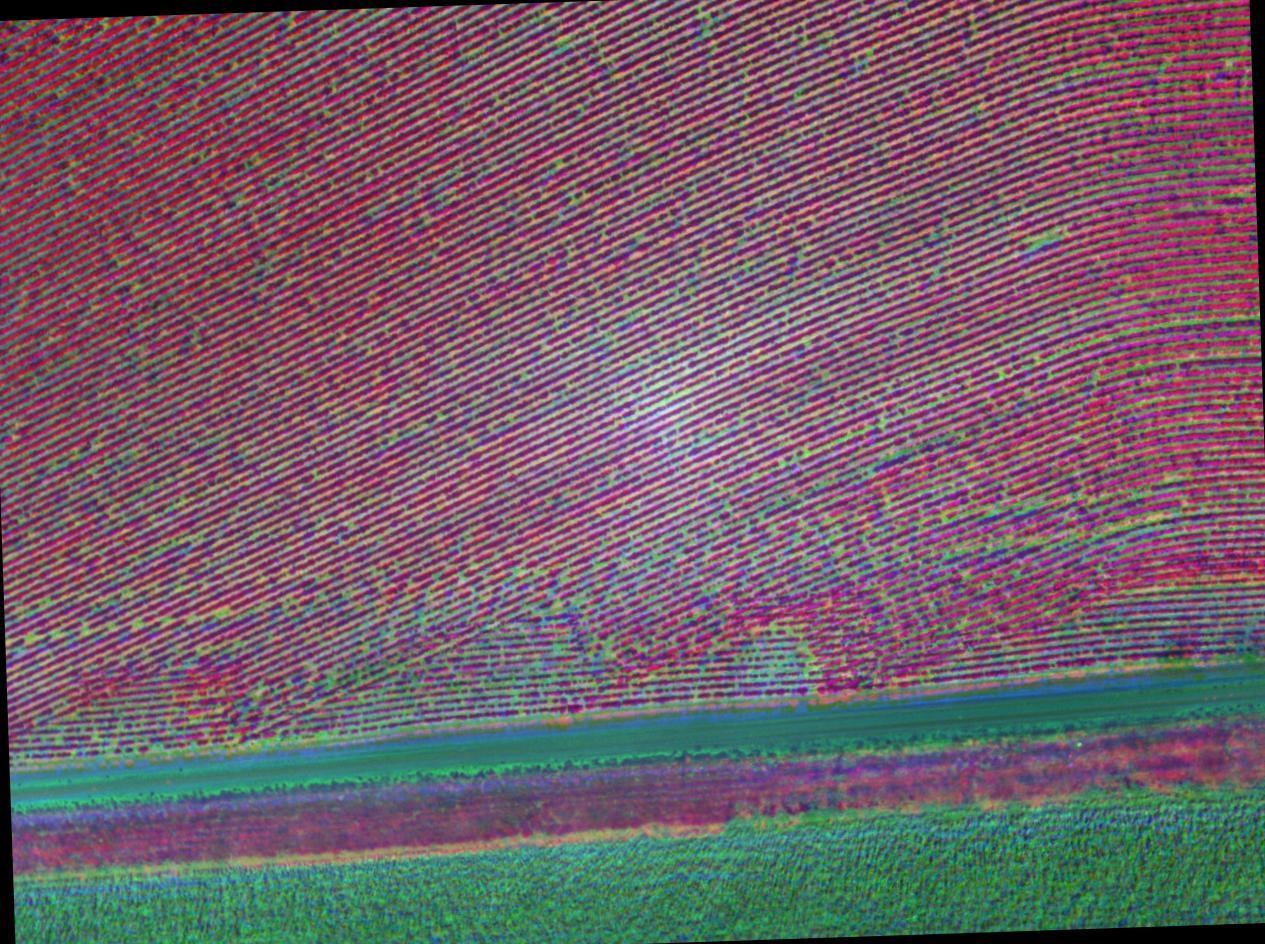dc: (553, 608, 559, 613), (804, 338, 809, 343), (942, 519, 948, 523), (1134, 494, 1139, 498), (517, 569, 521, 574), (596, 564, 600, 568), (287, 18, 290, 21), (119, 263, 122, 266)
